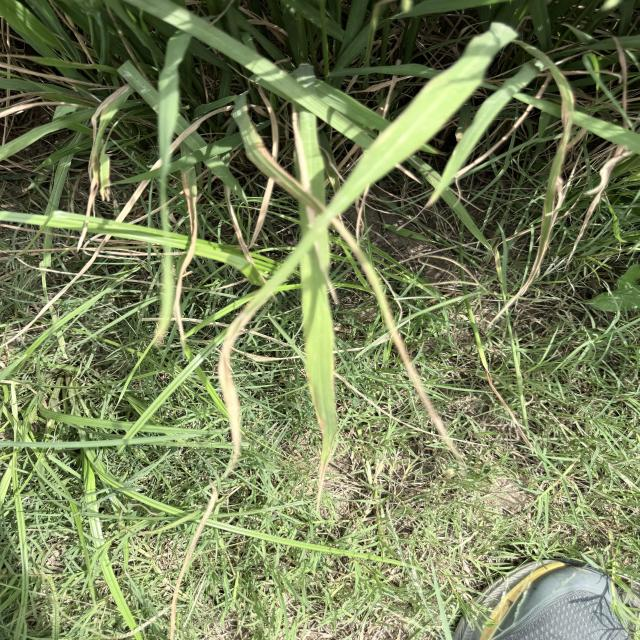Chay bia la: (219, 303, 257, 472), (175, 172, 197, 355), (88, 85, 127, 151), (251, 178, 275, 248), (305, 374, 325, 437)
